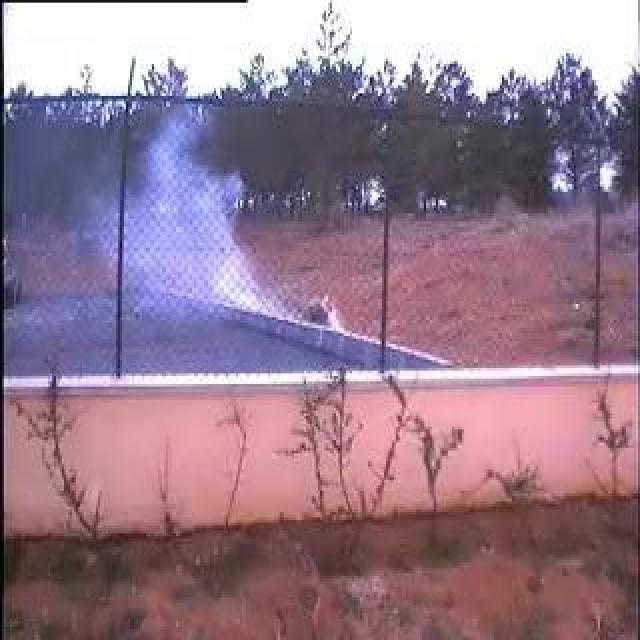Smoke: (81, 120, 295, 325)
